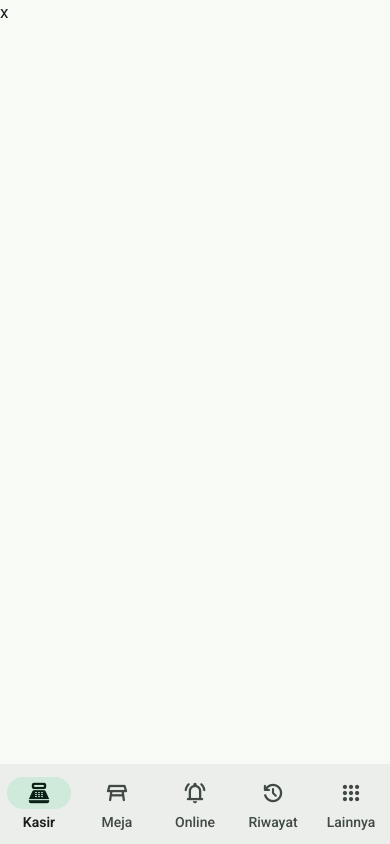
Test: pemilih bahasa di lembar Lainnya (semua staf) › gagal menyimpan ke server → bahasa tetap berganti di perangkat + pesan dalam bahasa baru
Click the button "Lainnya" at (351, 804), box [312,764,389,843]
(page scrolled)
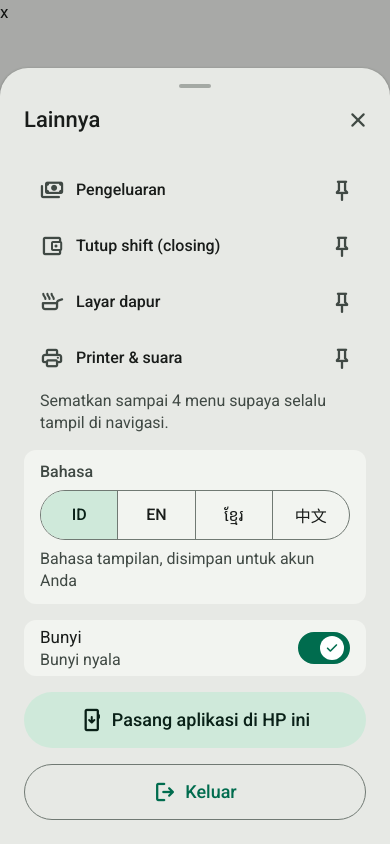
Click the radio button labelled "中文" at (310, 514), box [272,490,349,538]
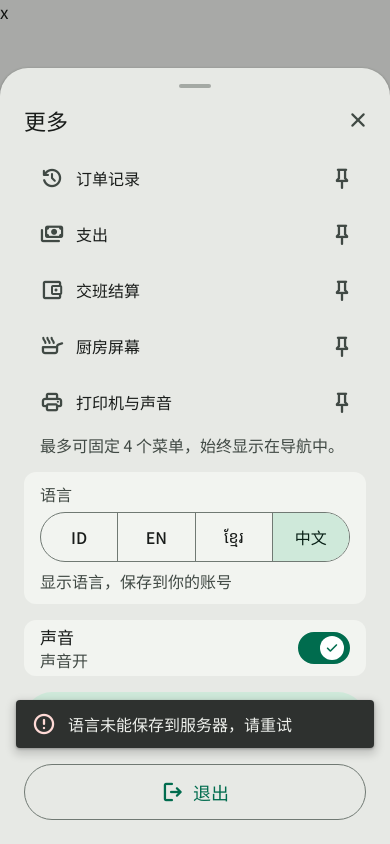
Check: the text "语言未能保存到服务器，请重试" is shown, box [68,712,292,736]
